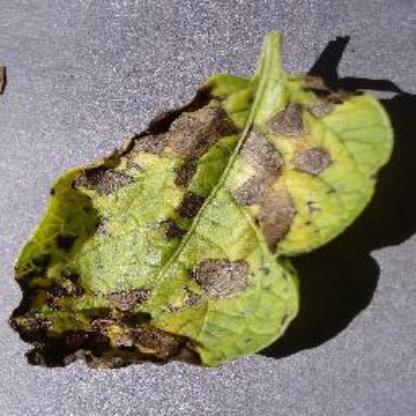Early-Blight: (17, 29, 396, 373)
